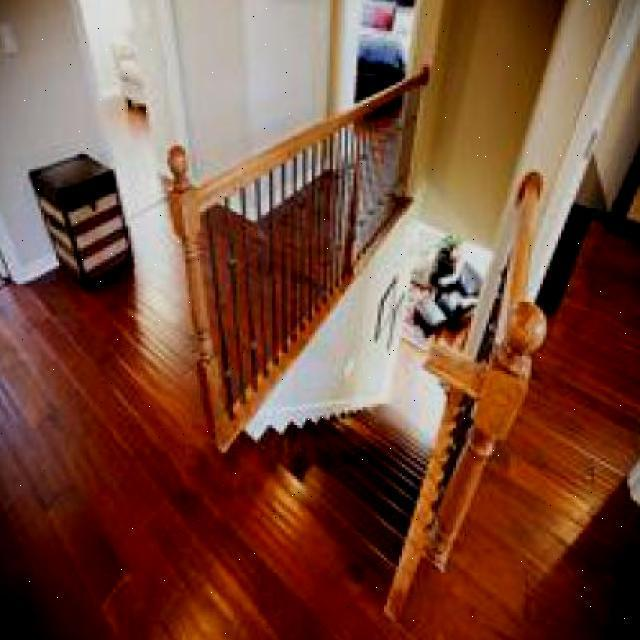stair: (246, 364, 445, 576)
